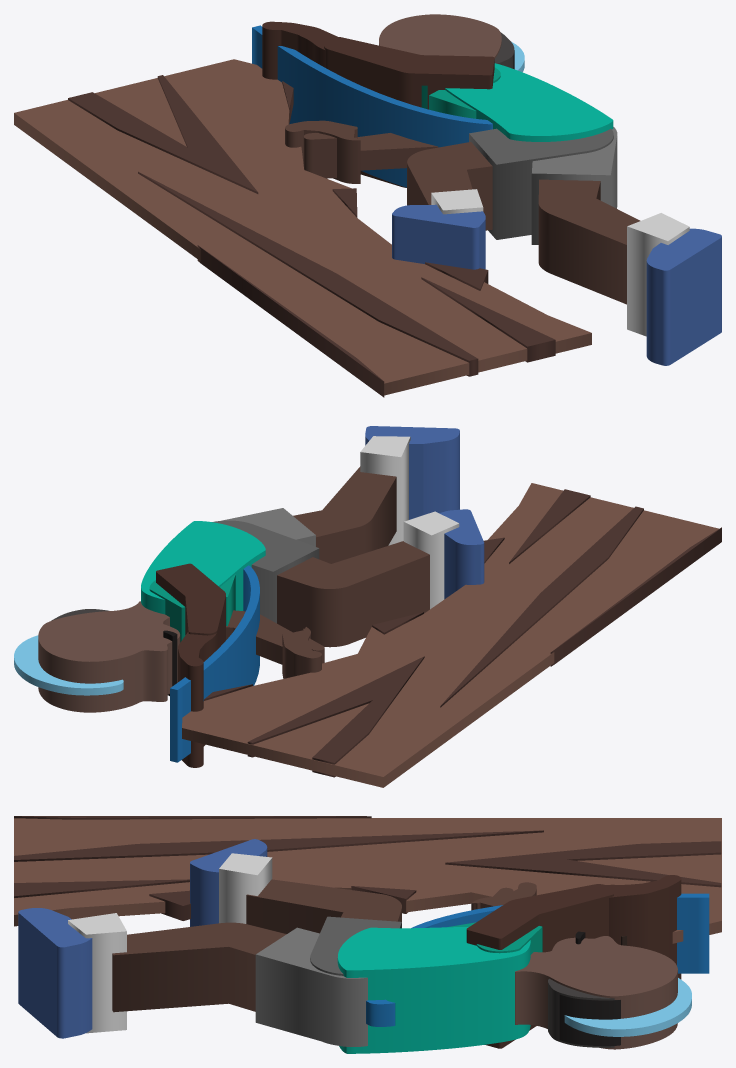
File: emoji_u1f9d7_1f3ff_200d_2642.glb
3 renders of one model, top to bottom at view 1: azimuth 30°, elevation 25°; view 2: azimuth 150°, elevation 25°; view 3: azimuth 270°, elevation 25°, orthographic. The views are drawn at different scales.
Visible parts, largest first — view 1: emoji_u1f9d7_1f3ff_200d_2642; view 2: emoji_u1f9d7_1f3ff_200d_2642; view 3: emoji_u1f9d7_1f3ff_200d_2642.
Boxes of the visible parts, x1=… form: emoji_u1f9d7_1f3ff_200d_2642: x1=14, y1=14, x2=721, y2=397; emoji_u1f9d7_1f3ff_200d_2642: x1=14, y1=426, x2=721, y2=787; emoji_u1f9d7_1f3ff_200d_2642: x1=14, y1=816, x2=721, y2=1053.
Bounding box in the file's own units: 0.0237 × 0.0058 × 0.0338.
